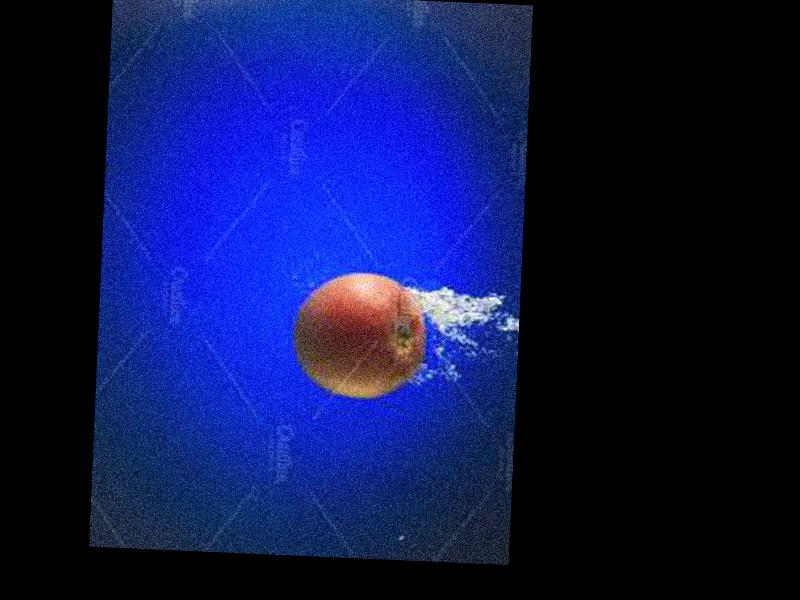Tomato: (295, 270, 428, 402)
